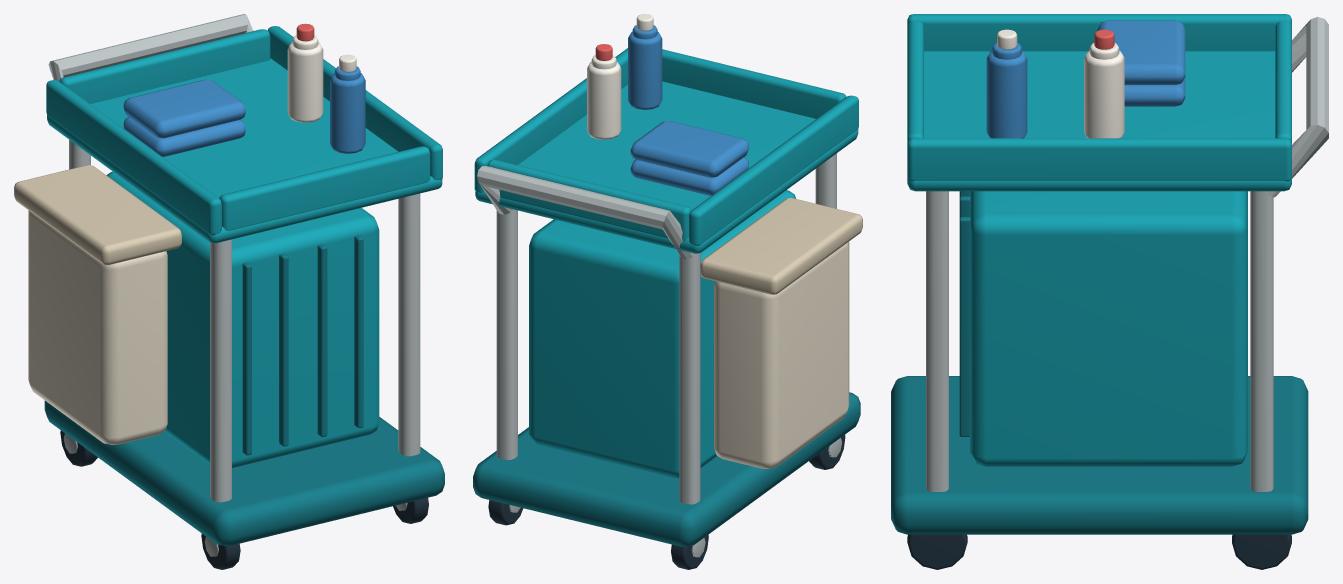
File: Utility_Janitor_Cart.glb
3 views of the same model, side by side, from view 1: azimuth 30°, elevation 25°; view 2: azimuth 150°, elevation 25°; view 3: azimuth 270°, elevation 25° (orthographic). The views are drawn at different scales.
Parts seen in each view (by area): view 1: Utility_Janitor_Cart__Visual, Caster_Pivot__Visual, Caster_Pivot.001__Visual, Caster_Pivot.002__Visual; view 2: Utility_Janitor_Cart__Visual, Caster_Pivot.001__Visual, Caster_Pivot__Visual, Caster_Pivot.003__Visual; view 3: Utility_Janitor_Cart__Visual, Caster_Pivot.002__Visual, Caster_Pivot.003__Visual.
Part boxes in pixels (box(x1,y1,x2,y2)): Utility_Janitor_Cart__Visual: box(14, 14, 444, 545); Caster_Pivot__Visual: box(201, 533, 240, 569); Caster_Pivot.001__Visual: box(60, 430, 97, 466); Caster_Pivot.002__Visual: box(393, 497, 428, 523); Utility_Janitor_Cart__Visual: box(473, 14, 862, 546); Caster_Pivot.001__Visual: box(671, 534, 708, 569); Caster_Pivot__Visual: box(809, 435, 845, 469); Caster_Pivot.003__Visual: box(488, 500, 523, 525); Utility_Janitor_Cart__Visual: box(891, 14, 1328, 534); Caster_Pivot.002__Visual: box(907, 534, 967, 569); Caster_Pivot.003__Visual: box(1232, 534, 1291, 569).
Bounding box in the file's own units: 0.83 × 1.23 × 0.9443.
Materials: 1 (1 with a texture image).
